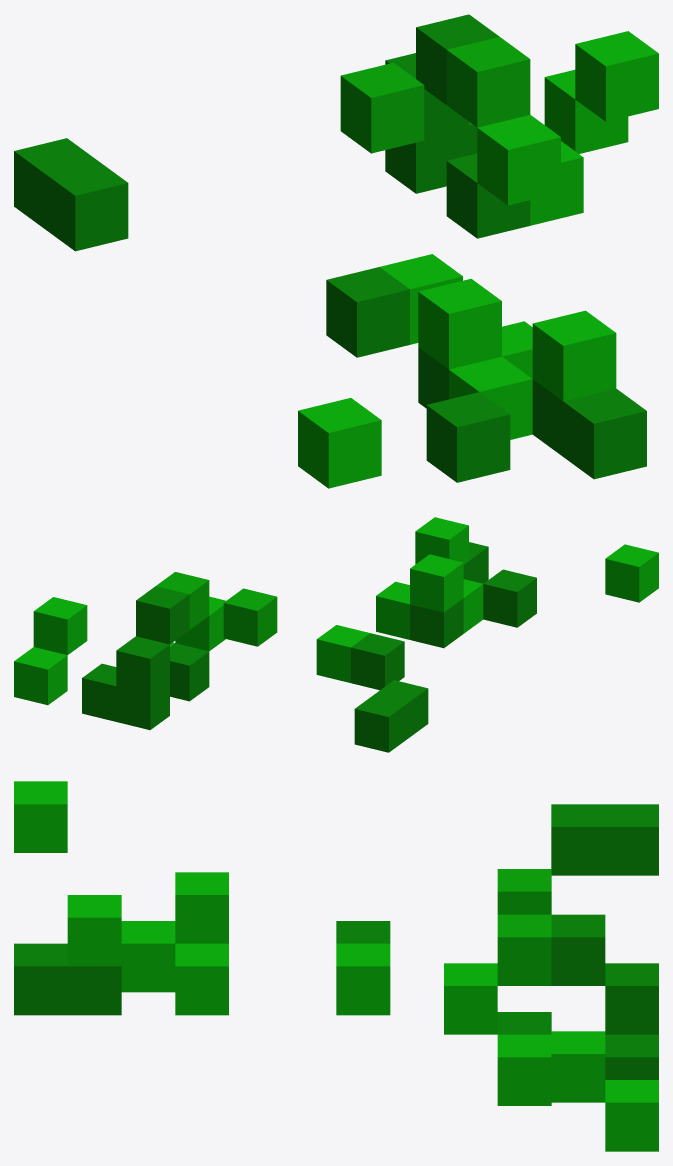
Rendered from Splash4.obj.
3 views of the same model, one above another, from view 1: azimuth 30°, elevation 25°; view 2: azimuth 150°, elevation 25°; view 3: azimuth 270°, elevation 25° (orthographic). The views are drawn at different scales.
Size of the model in its own units: 1.2 by 0.3 by 1.2.
Materials: 1 (1 with a texture image).
